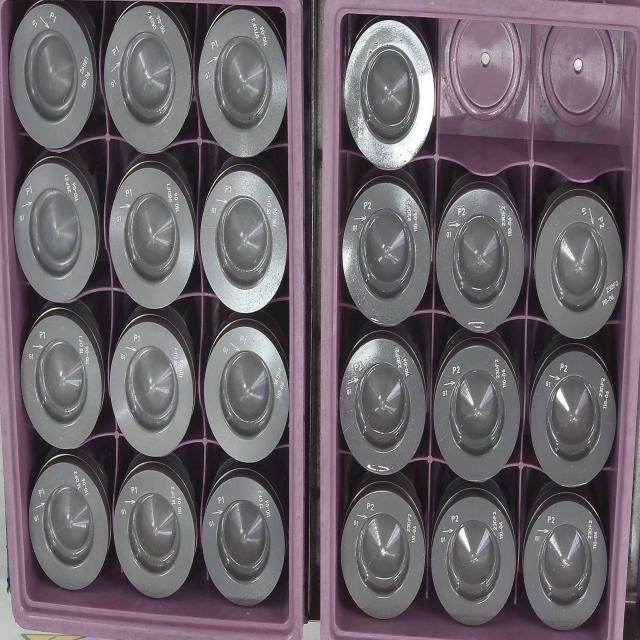P1: (105, 7, 198, 152), (108, 163, 198, 312), (7, 7, 99, 151), (13, 160, 102, 306), (201, 165, 287, 315), (202, 324, 294, 462), (202, 5, 286, 156), (19, 314, 110, 449), (114, 460, 200, 600), (204, 464, 286, 608), (110, 316, 196, 453), (24, 460, 111, 591)
P2: (534, 178, 626, 338), (345, 17, 436, 172), (522, 493, 612, 635), (441, 177, 525, 329), (531, 341, 617, 489), (430, 486, 517, 629), (438, 338, 522, 482), (346, 180, 431, 322), (342, 487, 426, 628), (345, 336, 427, 469)
